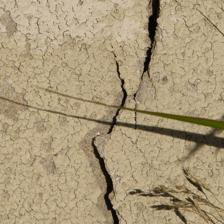Crack: (0, 0, 128, 82), (43, 124, 179, 176)
